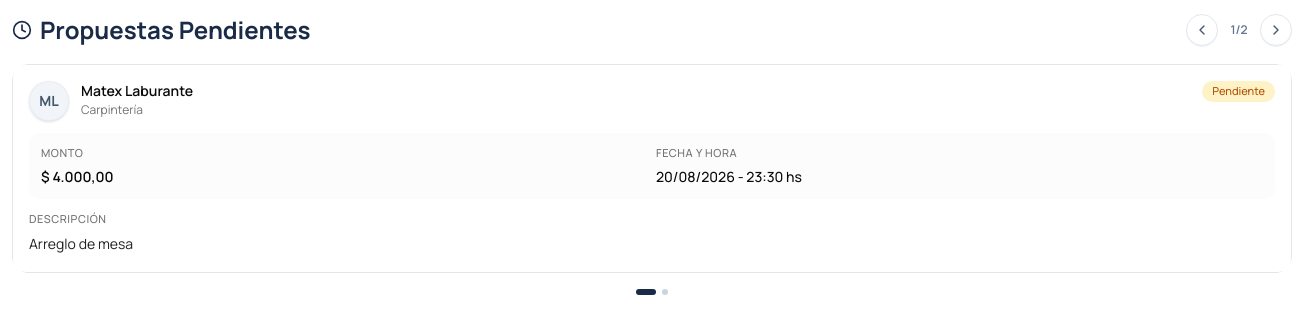
Test case: ProposalCarousel › navigates directly when clicking pagination dot
Click the button named "Ir a tarjeta 2" at coordinates (665, 292), box [662,289,668,295]
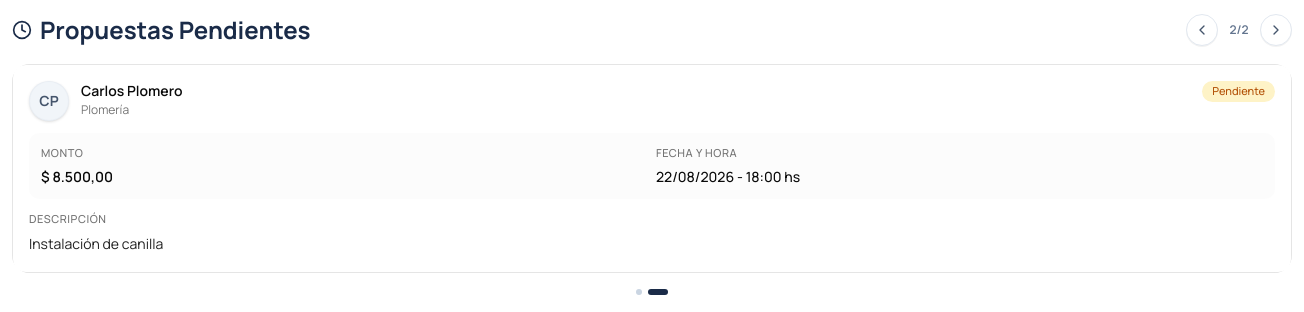
Now the text "2/2" is shown, box [1229,21,1248,38]
